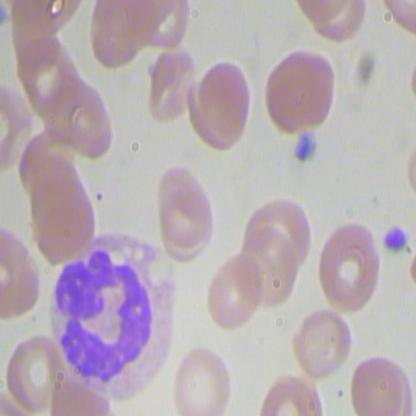Platelets: (376, 220, 408, 255), (294, 127, 320, 161)
RBC: (265, 49, 337, 137), (316, 221, 381, 318), (239, 224, 302, 313), (155, 162, 214, 254), (3, 332, 66, 415), (197, 54, 251, 141), (291, 308, 352, 382), (205, 254, 265, 328), (1, 227, 43, 328), (349, 349, 413, 415), (170, 348, 232, 415), (150, 49, 198, 127), (257, 372, 322, 415)
WBC: (41, 231, 187, 405)
